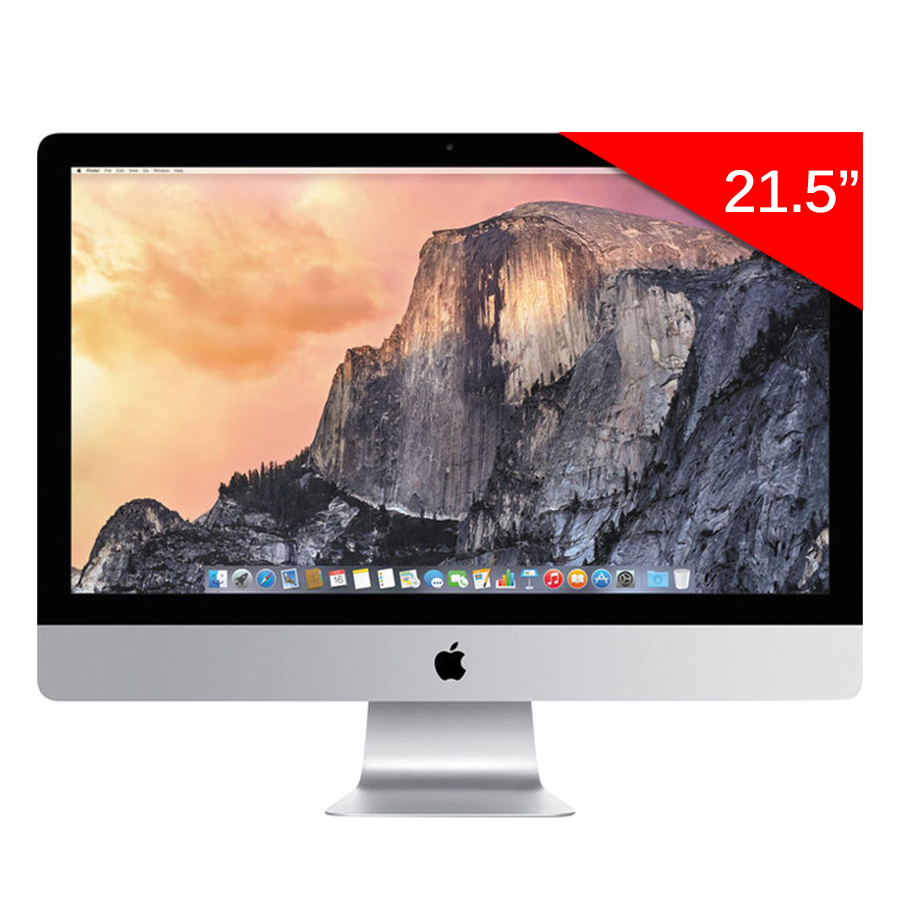Apple: (342, 584, 569, 750)
